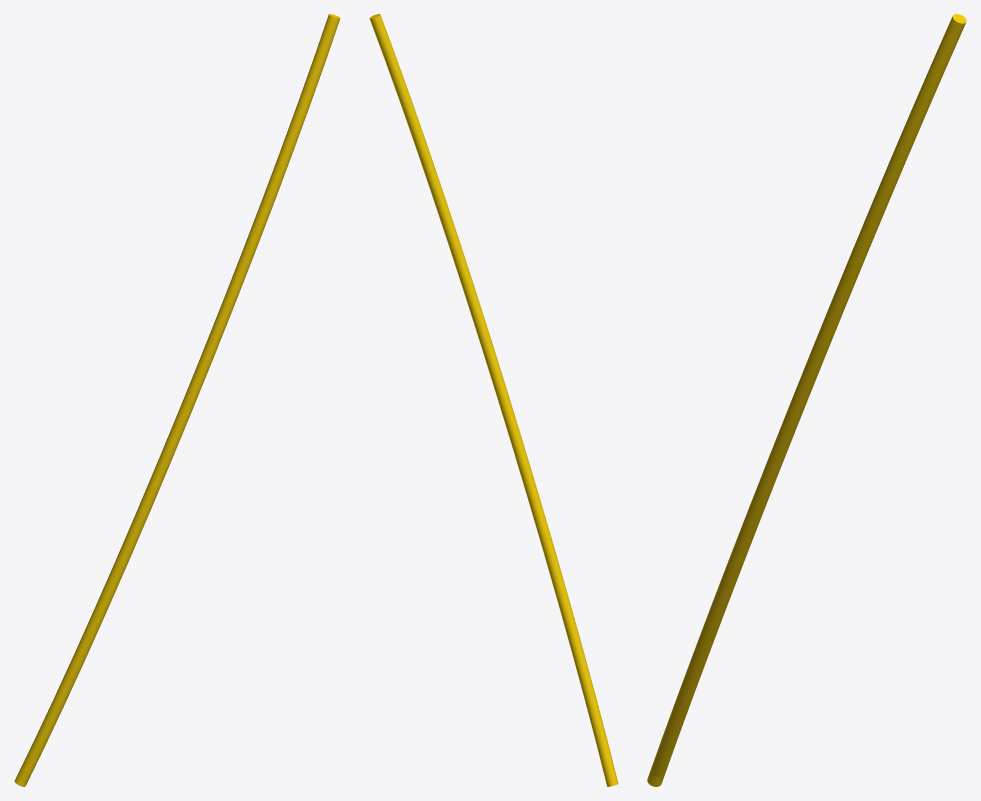
File: Event_421127236_track_0.fbx
3 renders of one model, left to right at view 1: azimuth 30°, elevation 25°; view 2: azimuth 150°, elevation 25°; view 3: azimuth 330°, elevation 25°, orthographic. The views are drawn at different scales.
Visible parts, largest first — view 1: Model; view 2: Model; view 3: Model.
Part boxes in pixels (box(x1,y1,x2,y2)): Model: box(14, 14, 340, 786); Model: box(369, 14, 618, 786); Model: box(647, 14, 966, 786).
Bounding box in the file's own units: 1.09 × 2.58 × 0.246.
